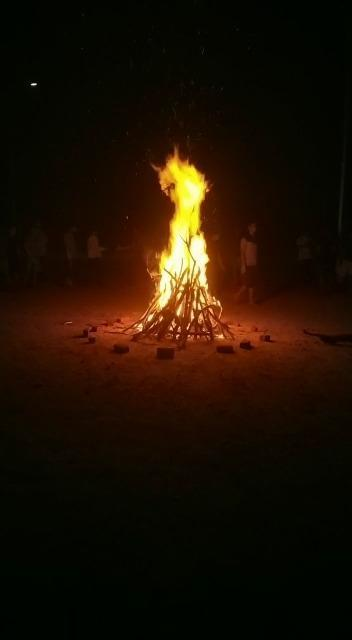fire: (134, 124, 226, 338)
